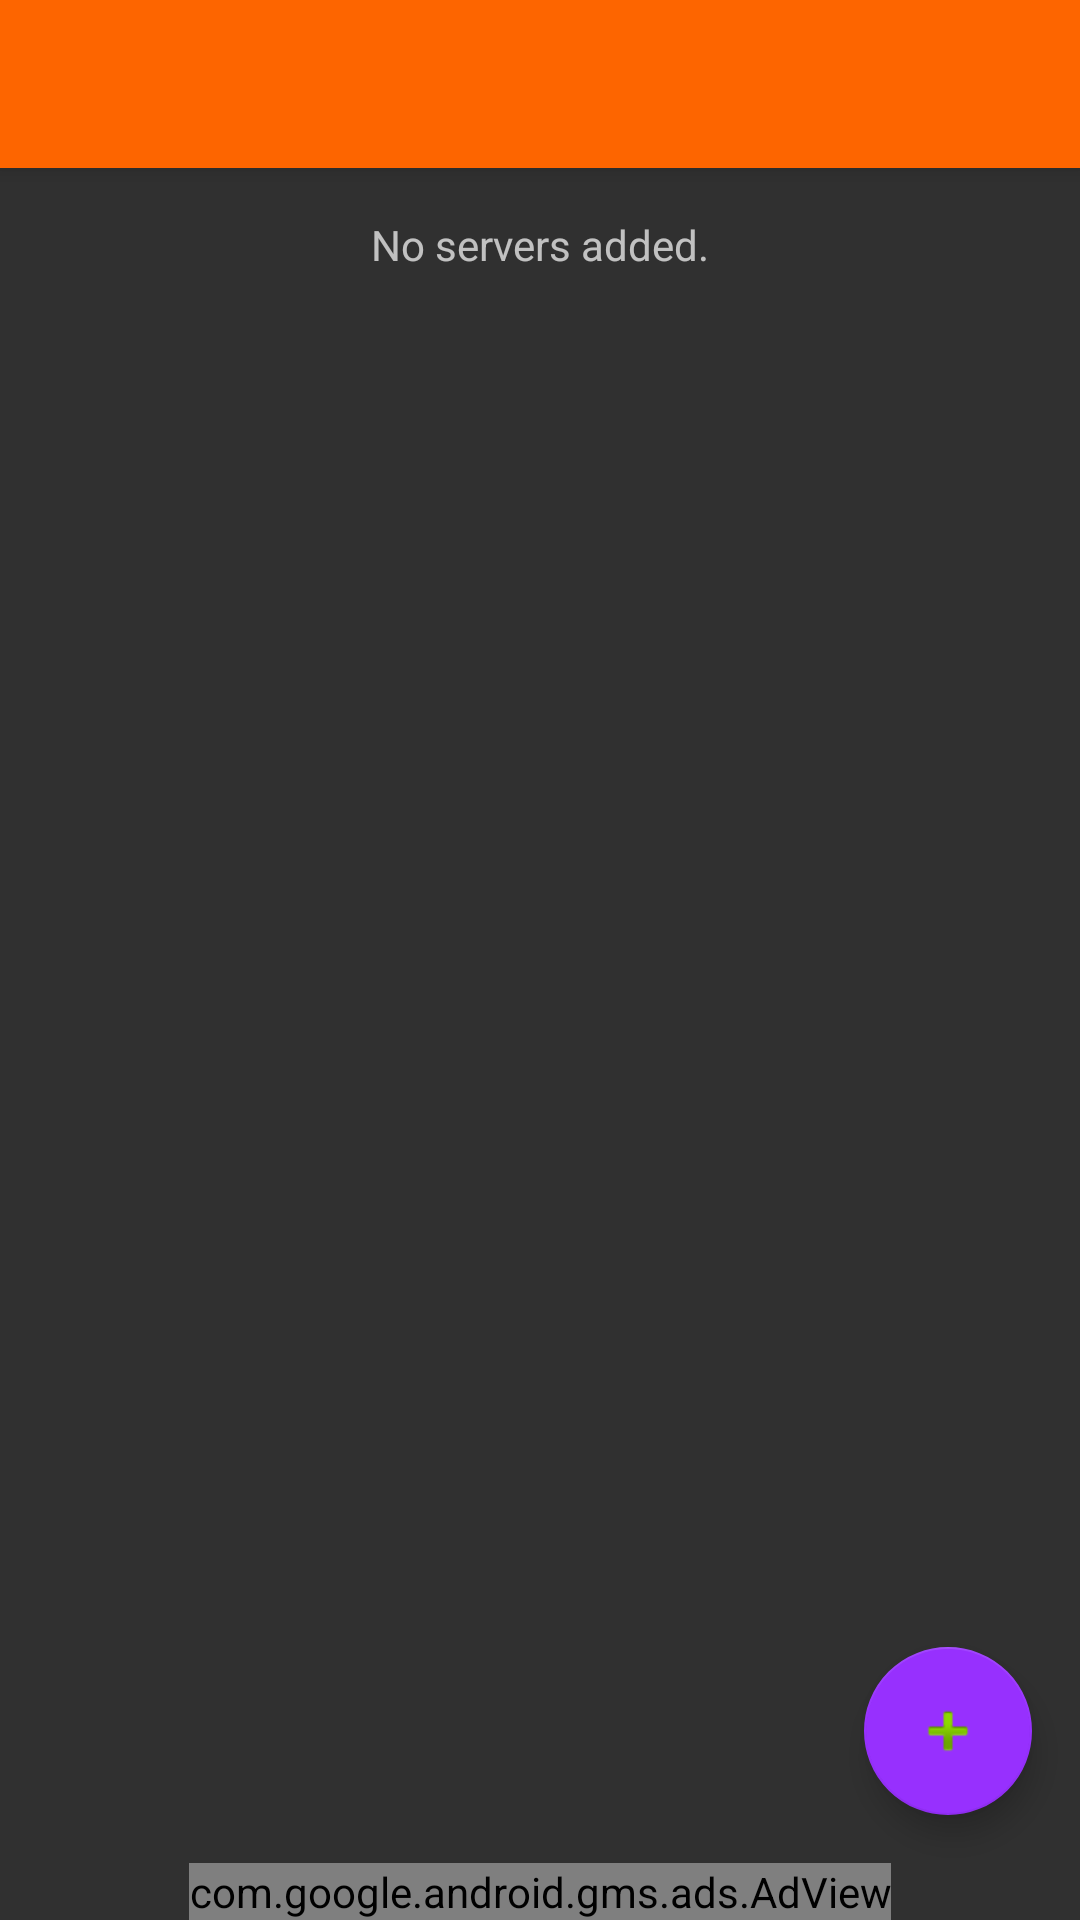

Named icons in this screenshot (1080 × 1920) and their centers, (x,y):
add: (948,1731)
